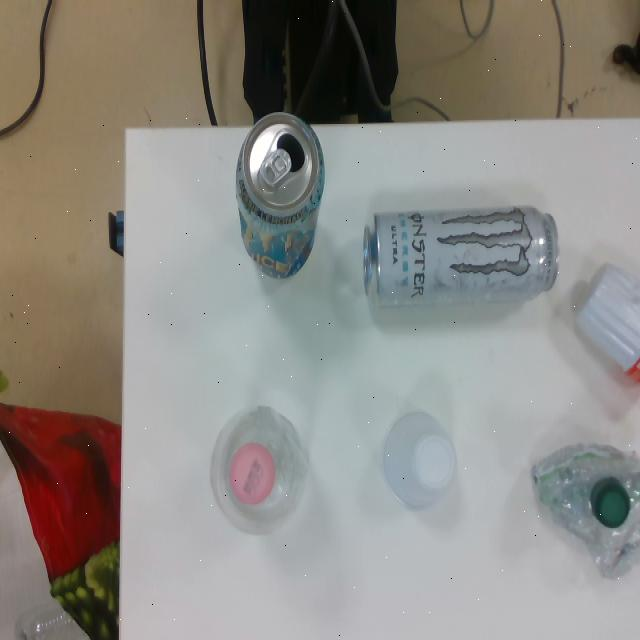aluminum: (359, 203, 564, 310), (233, 110, 325, 278)
plastic: (530, 437, 640, 590), (213, 405, 308, 538), (575, 258, 640, 390), (387, 407, 459, 511)
